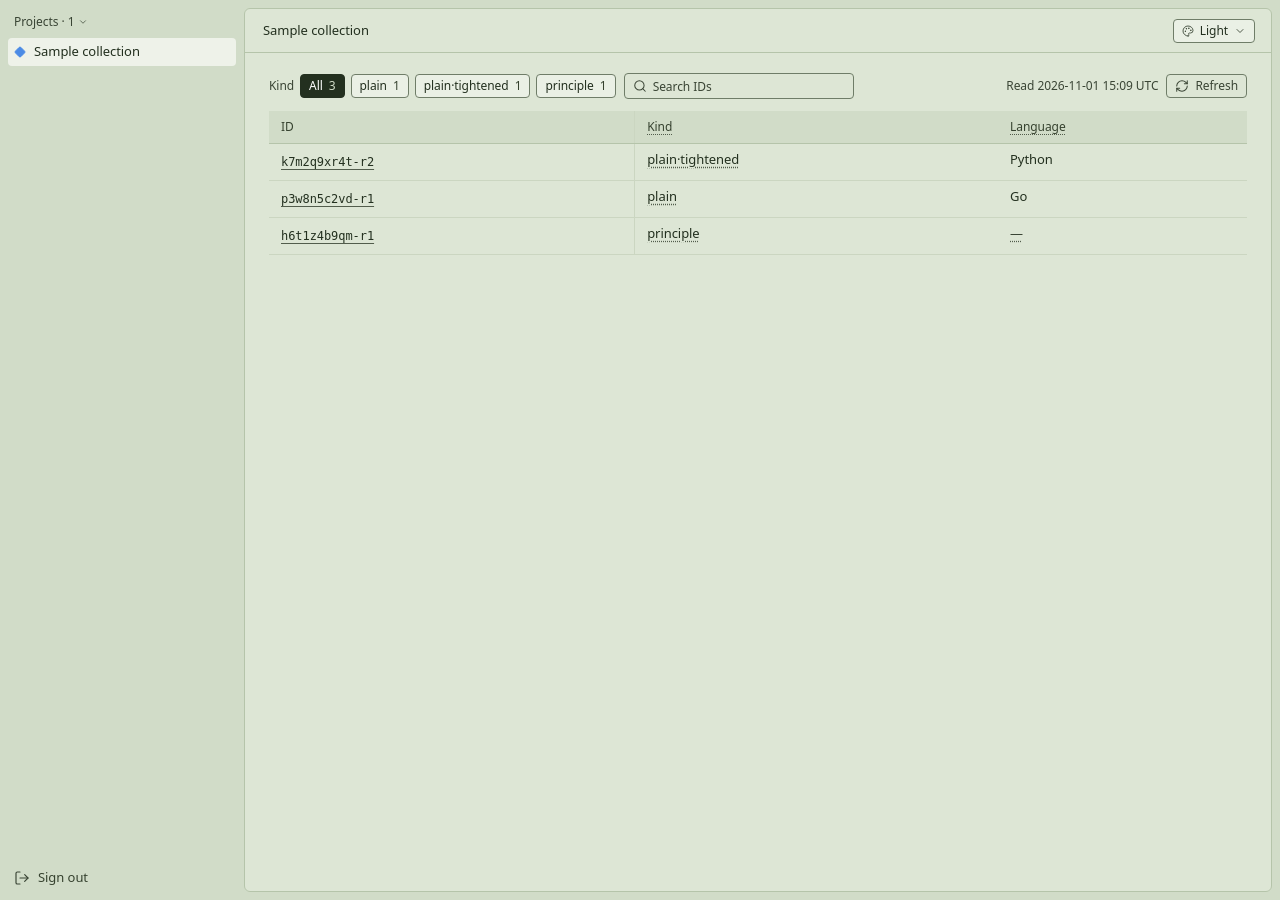
Test: the share site's list of items › filters by a column's chips and says how many they hide
Click the button named "plain1": {"x": 380, "y": 86} [350,74,409,98]
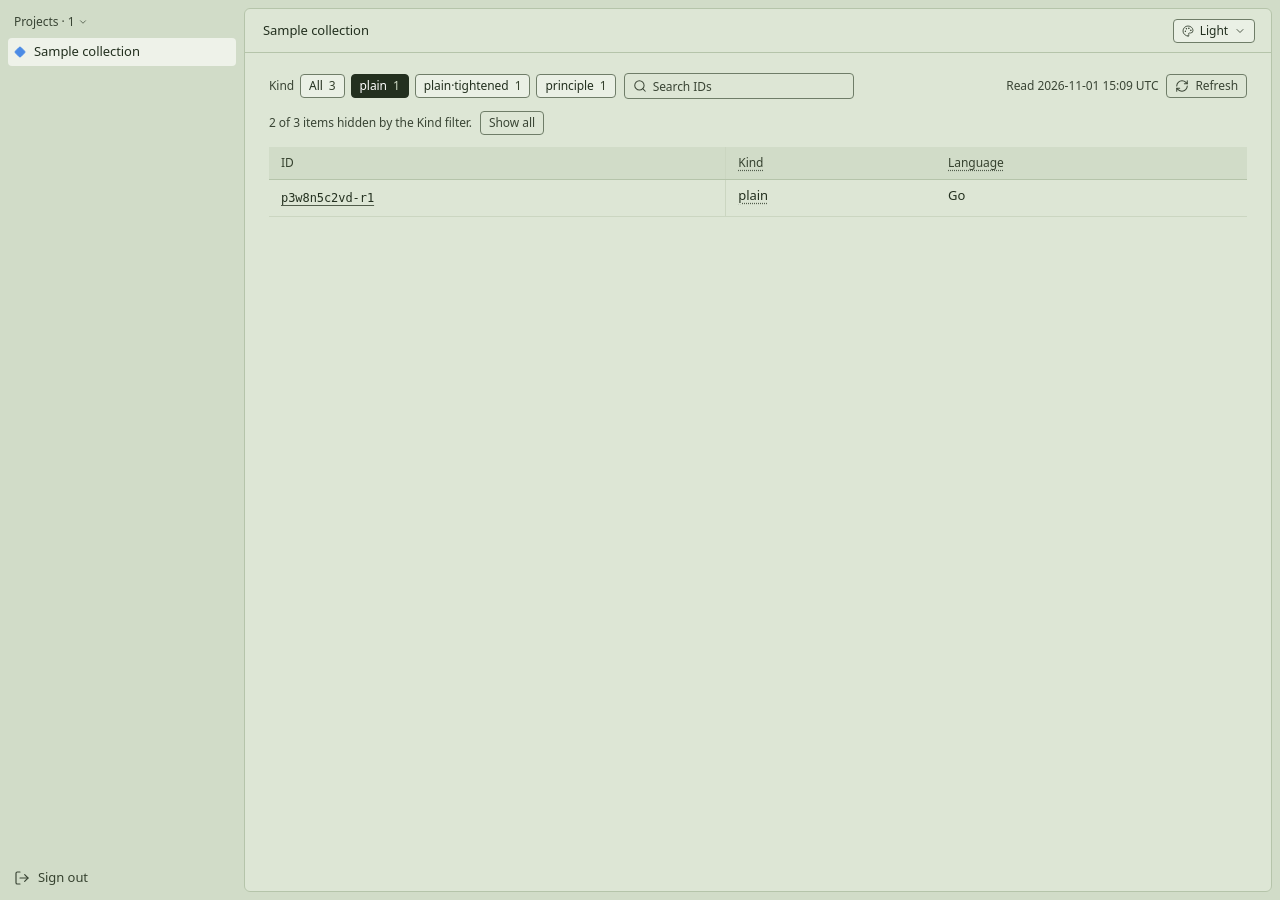
Check: the links read "p3w8n5c2vd-r1", in this order, box [281,191,374,205]
Check: the text "2 of 3 items hidden by the Kind filter. Show all" is shown, box [269,111,544,135]
